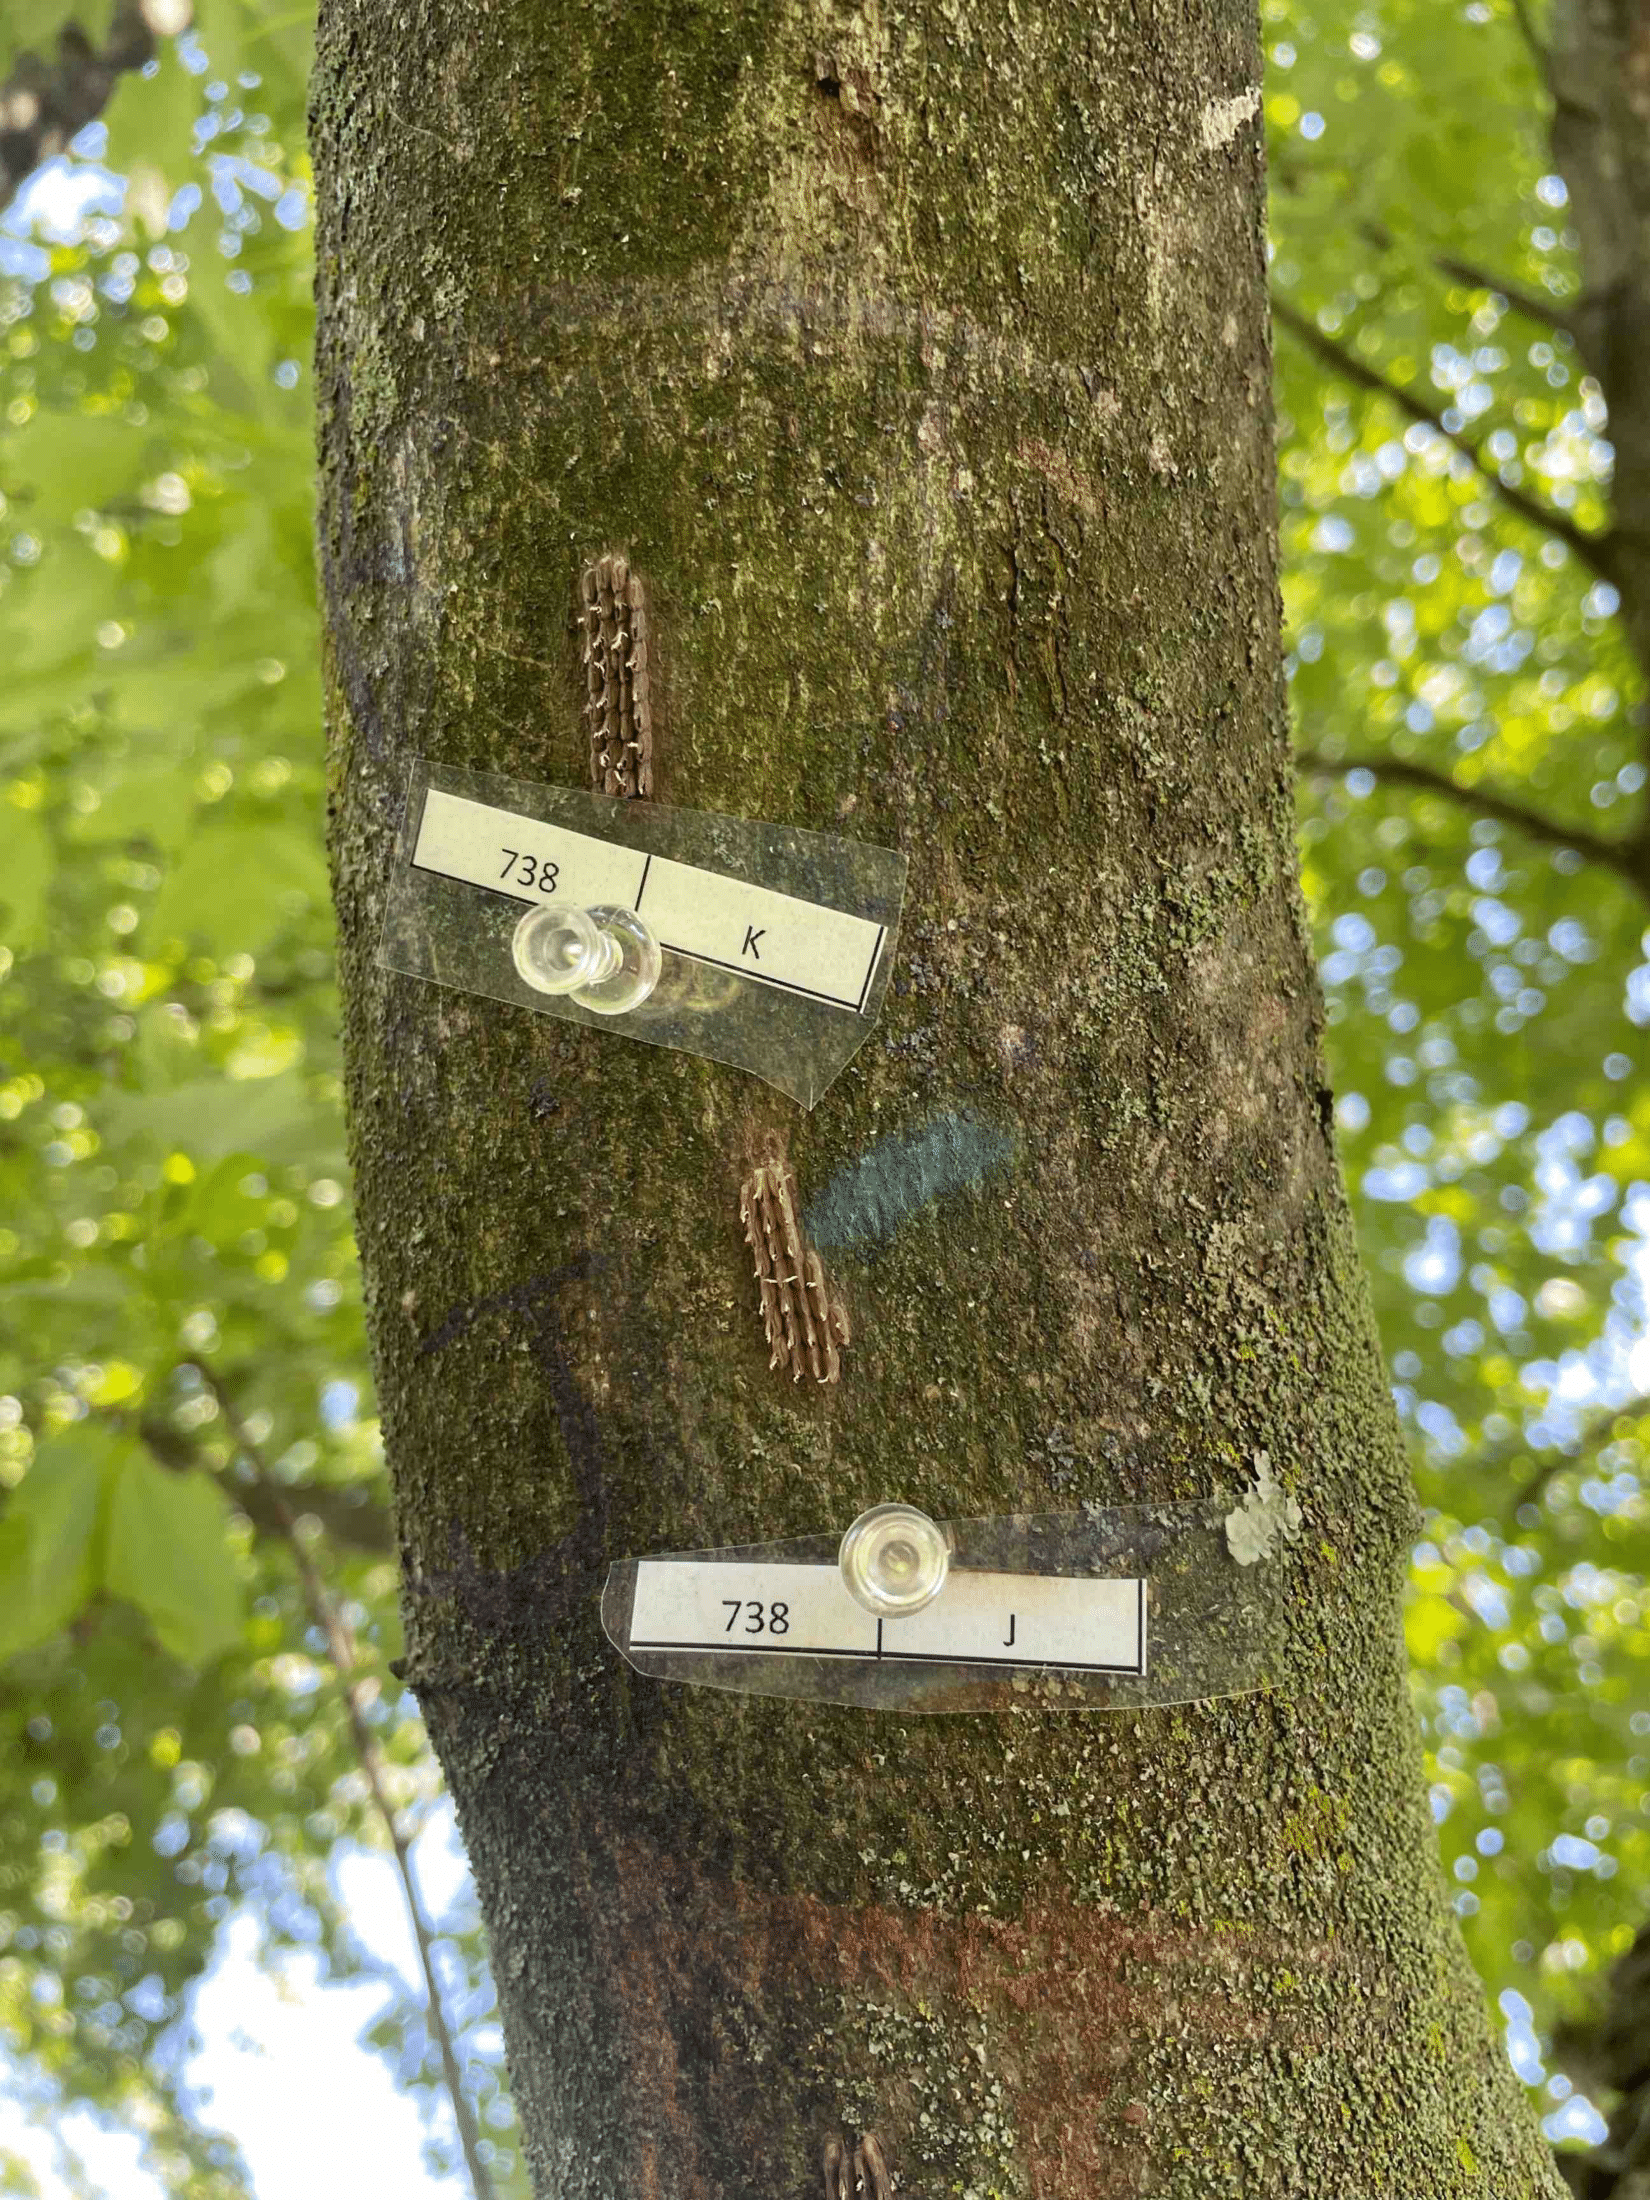egg masses: (511, 528, 690, 818), (686, 1128, 868, 1393)
